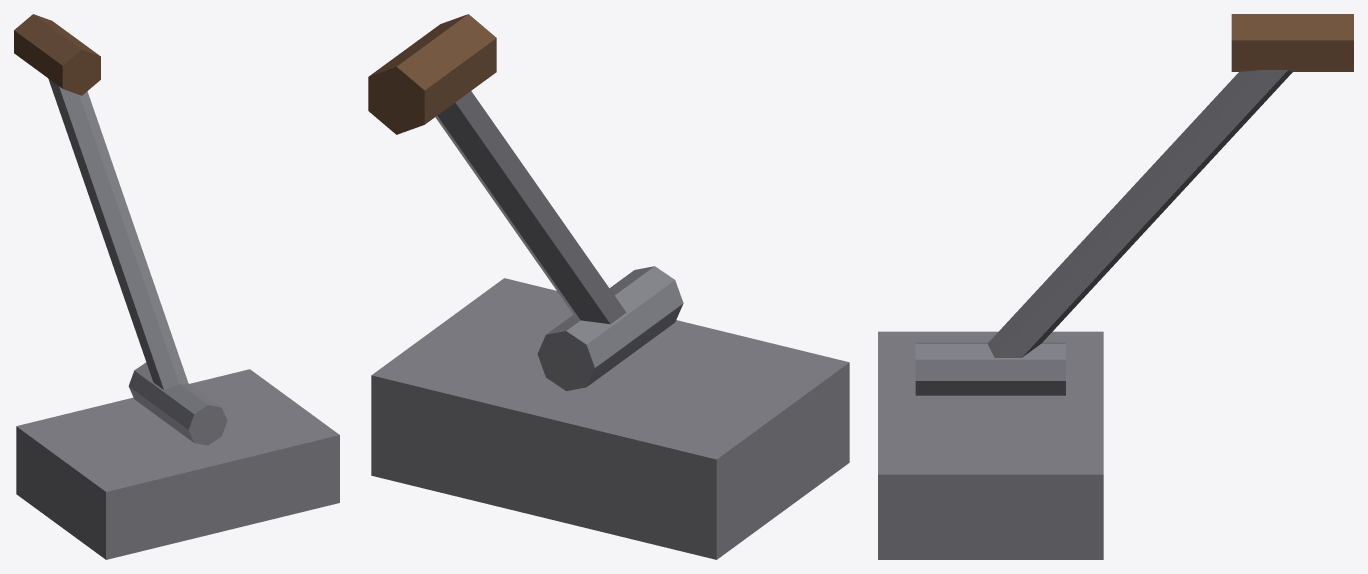
The model's file is lever_off.fbx.
The picture shows the model from 3 angles, left to right: view 1: azimuth 30°, elevation 25°; view 2: azimuth 150°, elevation 25°; view 3: azimuth 270°, elevation 25°; orthographic projection. The views are drawn at different scales.
Parts seen in each view (by area): view 1: Lever_Base, Lever_Arm, Lever_Grip, Lever_Pivot; view 2: Lever_Base, Lever_Arm, Lever_Grip, Lever_Pivot; view 3: Lever_Base, Lever_Arm, Lever_Pivot, Lever_Grip.
Boxes of the visible parts, x1,y1,x2,y2 form: Lever_Base: [16, 369, 339, 559]; Lever_Arm: [48, 78, 188, 389]; Lever_Grip: [14, 14, 100, 95]; Lever_Pivot: [128, 362, 227, 445]; Lever_Base: [371, 278, 849, 559]; Lever_Arm: [435, 91, 626, 324]; Lever_Grip: [368, 14, 496, 134]; Lever_Pivot: [537, 266, 683, 391]; Lever_Base: [878, 331, 1103, 559]; Lever_Arm: [987, 70, 1292, 357]; Lever_Pivot: [915, 342, 1065, 395]; Lever_Grip: [1231, 14, 1353, 71].
Bounding box in the file's own units: 0.36 × 0.557 × 0.5064.
